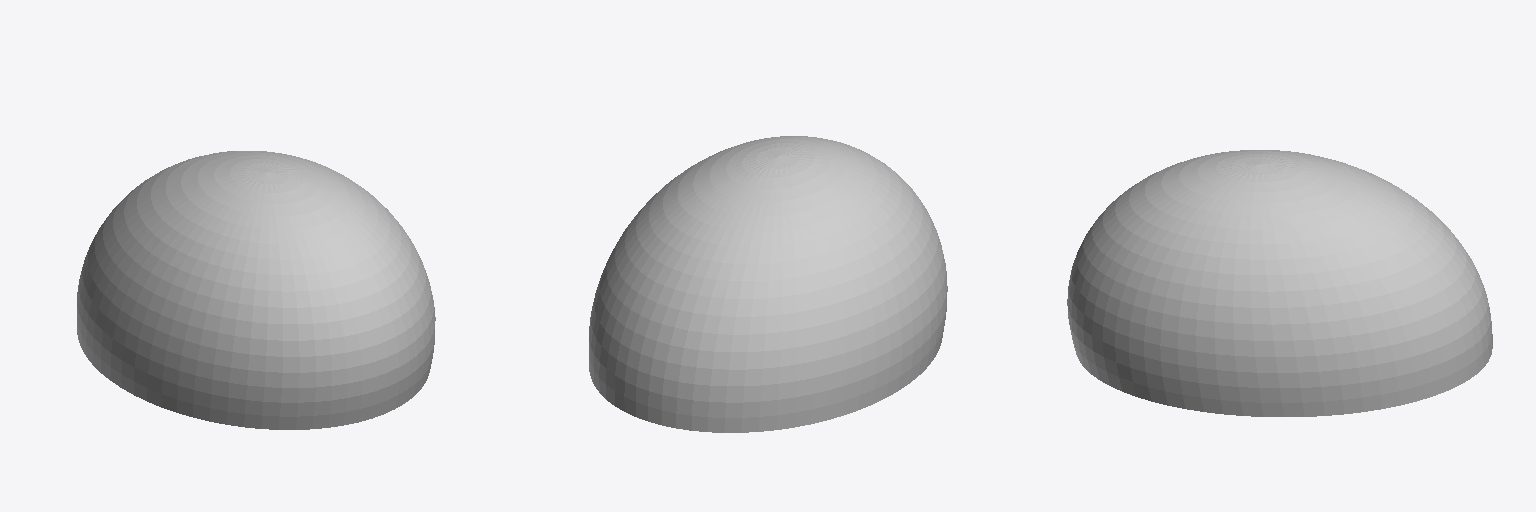
The model's file is cabeza.obj.
3 views of the same model, side by side, from view 1: azimuth 30°, elevation 25°; view 2: azimuth 150°, elevation 25°; view 3: azimuth 270°, elevation 25° (orthographic).
Visible parts, largest first — view 1: Sphere; view 2: Sphere; view 3: Sphere.
Part boxes in pixels (x1,y1,x2,y2): Sphere: (77, 151, 435, 429); Sphere: (589, 136, 947, 432); Sphere: (1067, 150, 1492, 416).
Bounding box in the file's own units: 9.38 × 5.67 × 11.92.